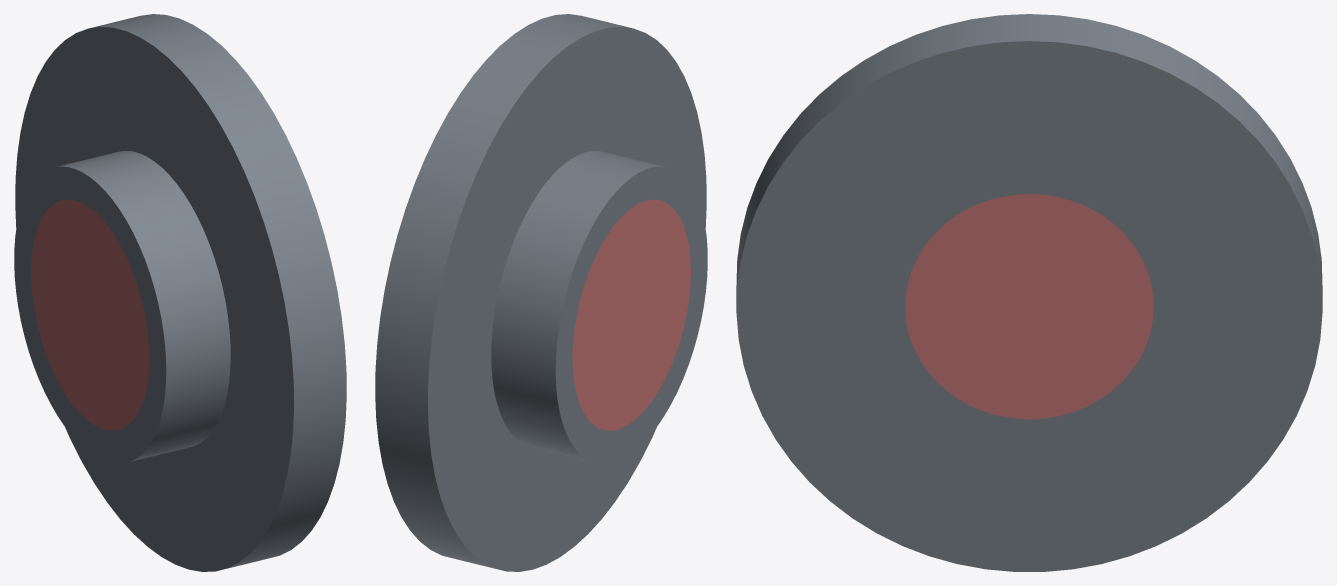
The model's file is step_19.glb.
3 renders of one model, left to right at view 1: azimuth 30°, elevation 25°; view 2: azimuth 150°, elevation 25°; view 3: azimuth 270°, elevation 25°, orthographic. The views are drawn at different scales.
Visible parts, largest first — view 1: part__flange top, inlet, removed__flange top, inlet; view 2: part__flange top, inlet, removed__flange top, inlet; view 3: part__flange top, inlet, removed__flange top, inlet.
Boxes of the visible parts, x1,y1,x2,y2 form: part__flange top, inlet: [14, 14, 346, 571]; removed__flange top, inlet: [31, 199, 149, 430]; part__flange top, inlet: [375, 14, 707, 571]; removed__flange top, inlet: [572, 199, 690, 430]; part__flange top, inlet: [736, 14, 1322, 571]; removed__flange top, inlet: [905, 194, 1153, 419].
Bounding box in the file's own units: 40 × 165 × 165.
